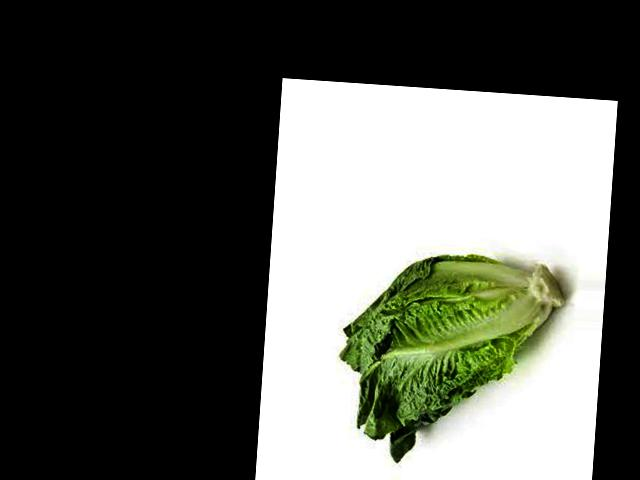lettuce: (350, 160, 533, 236)
